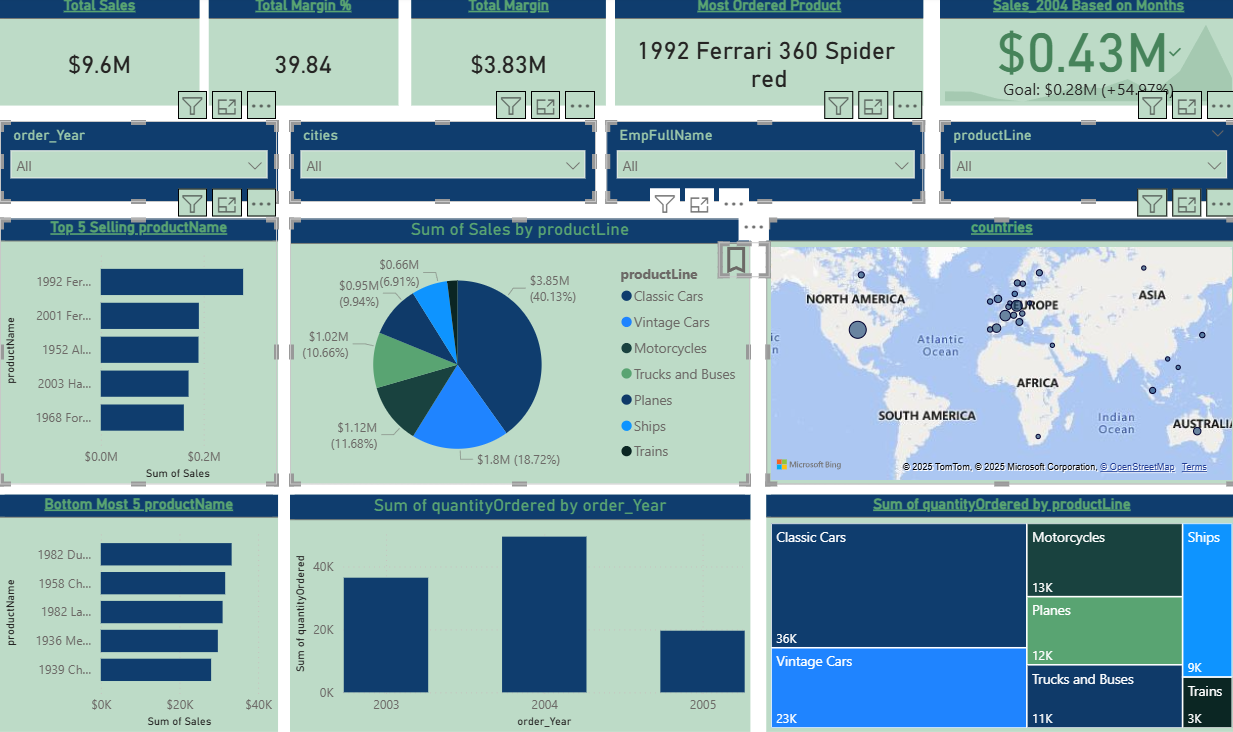

The page's visual inventory and layout, read from the dashboard file:
{"tool":"powerbi","page":{"name":"Page 1","canvas":[1280,720],"ordinal":0},"visuals":[{"type":"card","title":"Total Margin","fields":{"Values":["order details.total_Profit"]},"box":[411.7,0,190.7,107],"z":0},{"type":"pieChart","fields":{"Category":["products.productLine"],"Y":["order details.Sales"]},"box":[293.7,218.2,450.1,259.3],"z":1000},{"type":"barChart","title":"Top 5 Selling productName","fields":{"Category":["products.productName"],"Y":["order details.Sales"]},"box":[9.6,218.2,271.7,259.3],"z":2000},{"type":"card","title":"Most Ordered Product","fields":{"Values":["order details.MostOrderdProduct"]},"box":[612,0,301.9,107],"z":3000},{"type":"map","title":"countries","fields":{"Category":["customers.country"],"Size":["customers.customerNumber"]},"box":[758.8,218.2,461.1,259.3],"z":4000},{"type":"treemap","fields":{"Group":["productlines.productLine"],"Values":["order details.quantityOrdered"]},"box":[758.8,488.5,461.1,231.9],"z":5000},{"type":"card","title":"Total Margin %","fields":{"Values":["classic_models_dataset.Profit_Margin%"]},"box":[214.1,0,185.2,107],"z":6000},{"type":"card","title":"Total Sales","fields":{"Values":["order details.Sales"]},"box":[9.6,0,194.9,107],"z":7000},{"type":"slicer","title":"Order_Years","fields":{"Values":["orders.order_Year"]},"box":[9.6,122.1,271.7,79.6],"z":8000},{"type":"slicer","title":"City","fields":{"Values":["customers.city"]},"box":[293.7,122.1,299.1,79.6],"z":9000},{"type":"slicer","fields":{"Values":["employees.EmpFullName"]},"box":[602.4,122.1,311.5,79.6],"z":10000},{"type":"slicer","fields":{"Values":["productlines.productLine"]},"box":[929,122.1,290.9,79.6],"z":11000},{"type":"clusteredColumnChart","fields":{"Category":["orders.order_Year"],"Y":["order details.quantityOrdered"]},"box":[293.7,488.5,450.1,231.9],"z":12000},{"type":"barChart","title":"Bottom Most 5 productName","fields":{"Category":["products.productName"],"Y":["order details.Sales"]},"box":[9.6,488.5,271.7,231.9],"z":13000},{"type":"kpi","title":"Sales_2004 Based on Months","fields":{"TrendLine":["orders.Month Name"],"Indicator":["order details.Sales_2004"],"Goal":["order details.Sales_2003"]},"box":[929,0,290.9,107],"z":14000},{"type":"actionButton","box":[712.9,241.4,50,34.3],"z":15000}]}

Visuals, with their boxes on the page's 1280x720 design canvas (x1, y1, x2, y2). These are canvas units, not pixel positions in the 1233x732 screenshot, which may show the page scaled, cropped or inside an application window:
"Total Margin" card: 412:0:602:107
pieChart - products.productLine x order details.Sales: 294:218:744:478
"Top 5 Selling productName" barChart: 10:218:281:478
"Most Ordered Product" card: 612:0:914:107
"countries" map: 759:218:1220:478
treemap - productlines.productLine x order details.quantityOrdered: 759:488:1220:720
"Total Margin %" card: 214:0:399:107
"Total Sales" card: 10:0:204:107
"Order_Years" slicer: 10:122:281:202
"City" slicer: 294:122:593:202
slicer - employees.EmpFullName: 602:122:914:202
slicer - productlines.productLine: 929:122:1220:202
clusteredColumnChart - orders.order_Year x order details.quantityOrdered: 294:488:744:720
"Bottom Most 5 productName" barChart: 10:488:281:720
"Sales_2004 Based on Months" kpi: 929:0:1220:107
actionButton: 713:241:763:276
